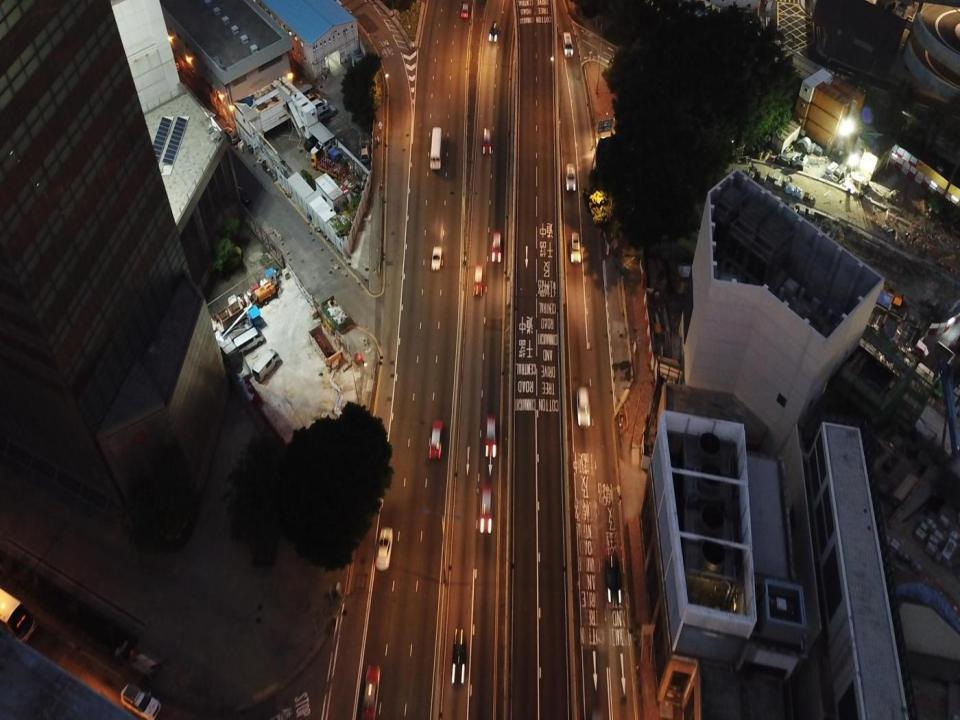bus: (0, 587, 35, 643), (430, 127, 444, 170)
car: (120, 682, 160, 719), (361, 664, 379, 719), (450, 629, 467, 684), (605, 550, 622, 603), (476, 485, 492, 536), (377, 529, 392, 573), (483, 418, 497, 462), (430, 417, 442, 457), (491, 228, 502, 264), (570, 233, 583, 263), (472, 264, 483, 298), (564, 163, 576, 191), (431, 246, 441, 272), (482, 128, 492, 153), (488, 21, 499, 42), (460, 0, 469, 17)
van: (252, 347, 279, 383), (234, 327, 265, 353), (576, 387, 591, 426), (289, 83, 312, 97), (562, 33, 574, 57), (313, 106, 337, 118), (358, 142, 371, 162), (310, 98, 326, 109), (299, 94, 321, 102)
